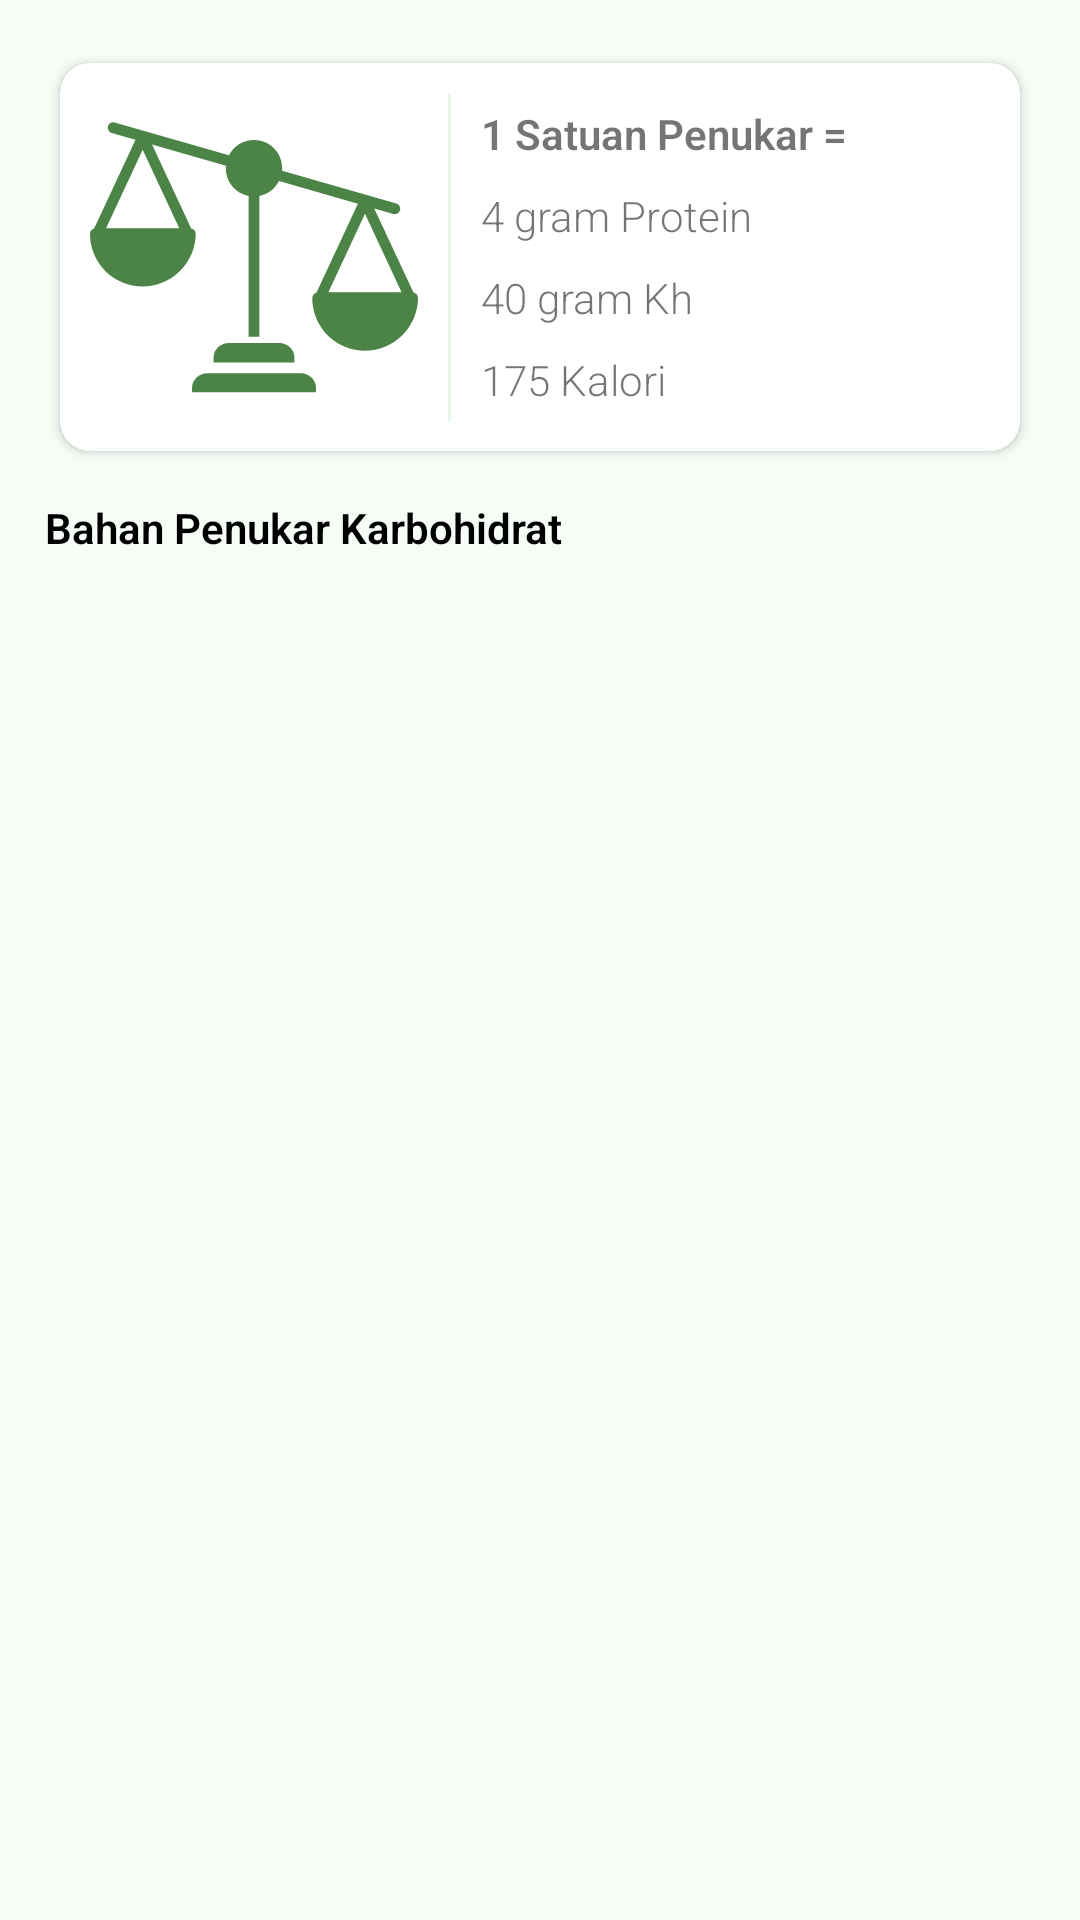

Icons on this 1080 × 1920 Android screen, each with the point to tap as (x,y):
balance: (254,257)
